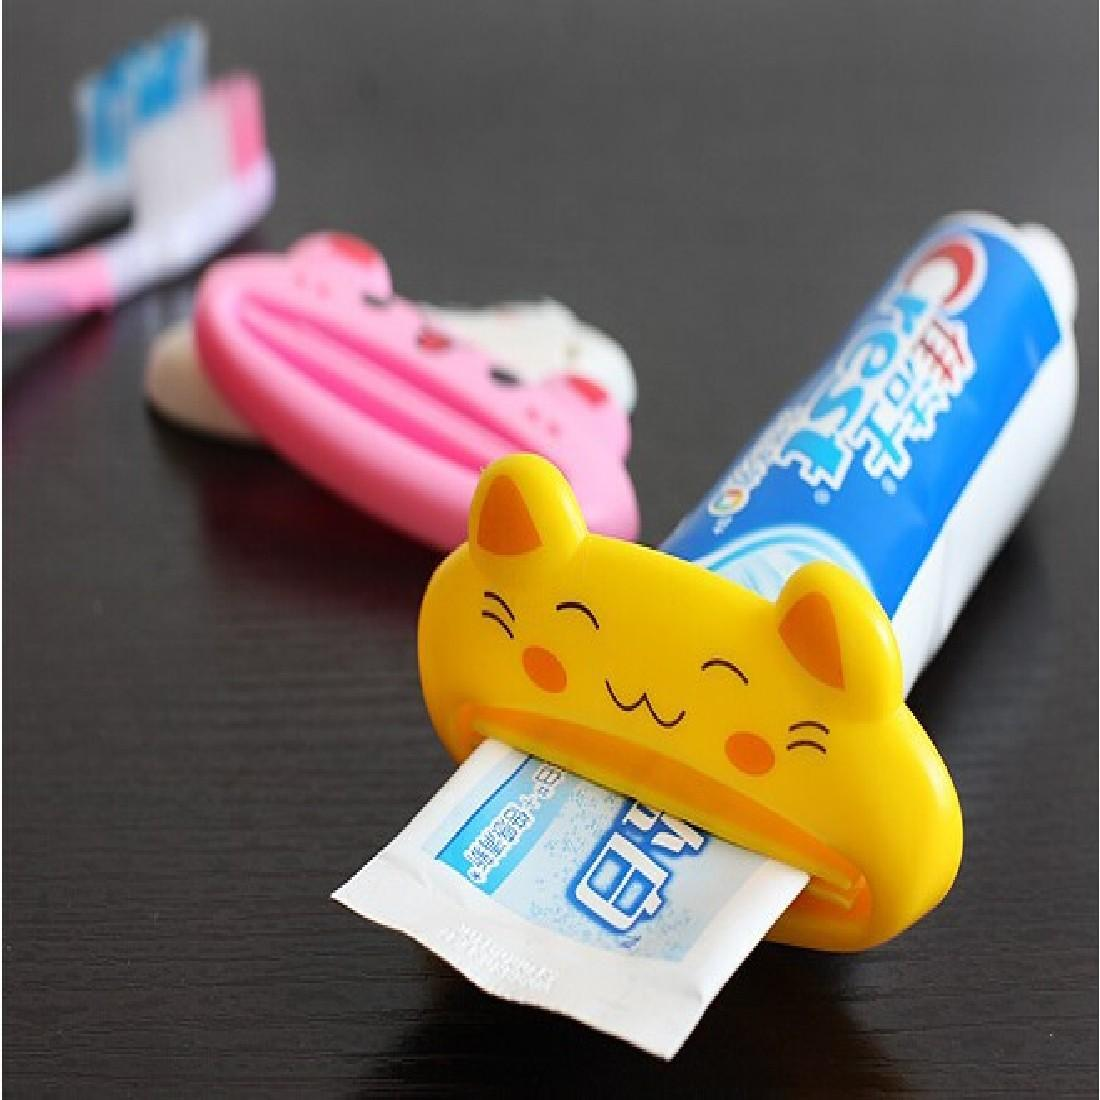toothpaste: (308, 177, 1097, 1033)
